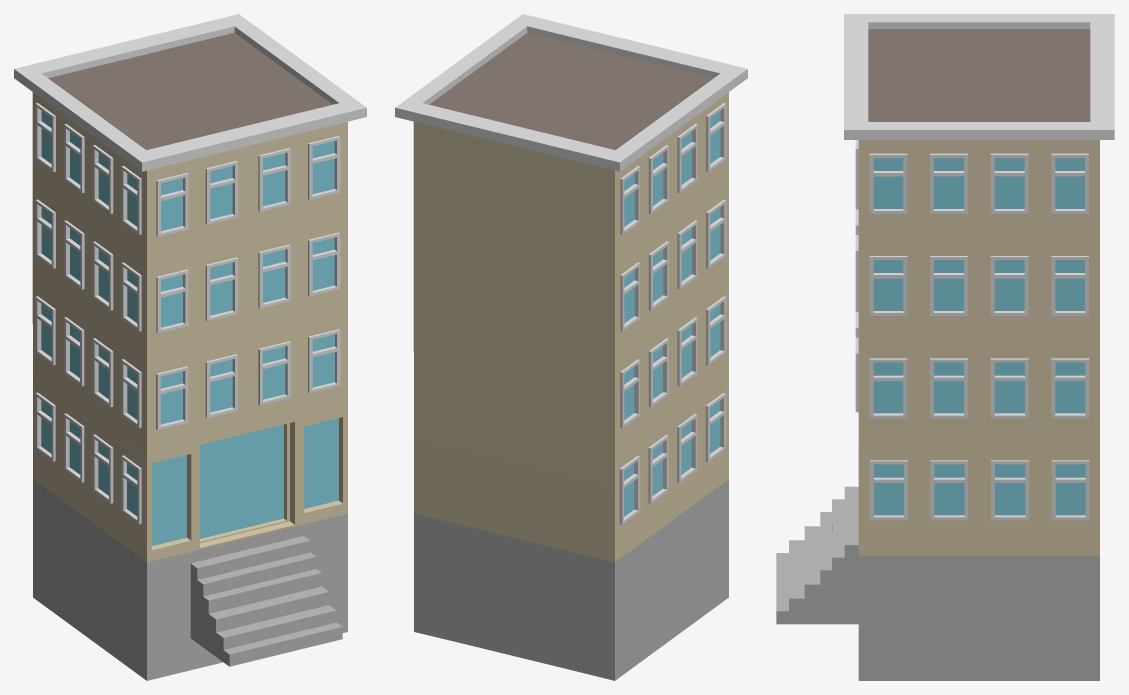
3 renders of one model, left to right at view 1: azimuth 30°, elevation 25°; view 2: azimuth 150°, elevation 25°; view 3: azimuth 270°, elevation 25°, orthographic. The views are drawn at different scales.
Parts seen in each view (by area): view 1: pCube35; view 2: pCube35; view 3: pCube35.
Boxes of the visible parts, x1=… form: pCube35: x1=14, y1=14, x2=366, y2=680; pCube35: x1=395, y1=14, x2=747, y2=680; pCube35: x1=776, y1=14, x2=1114, y2=680.
Size of the model in its own units: 636 by 1422 by 783.
